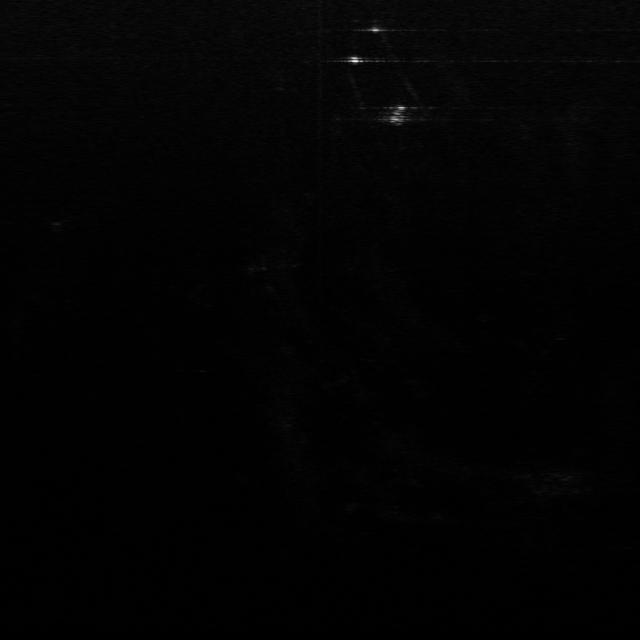rov: (380, 101, 420, 125)
